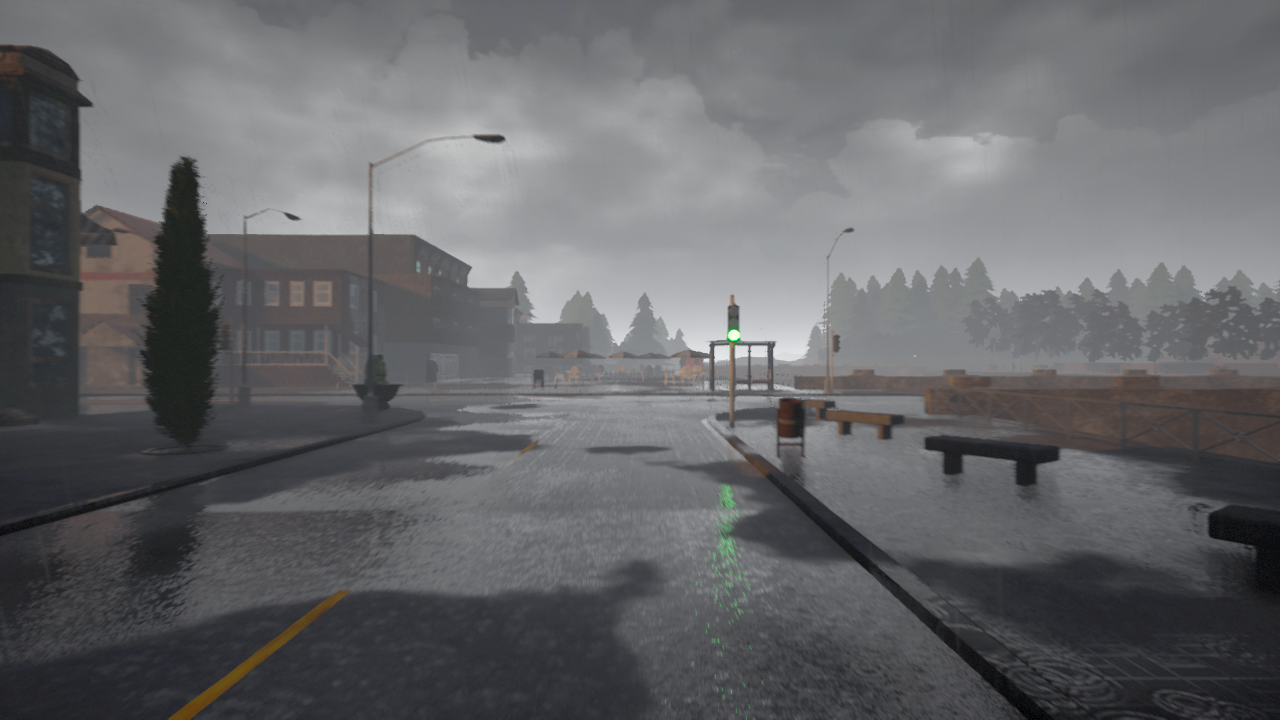green: (726, 305, 741, 342)
